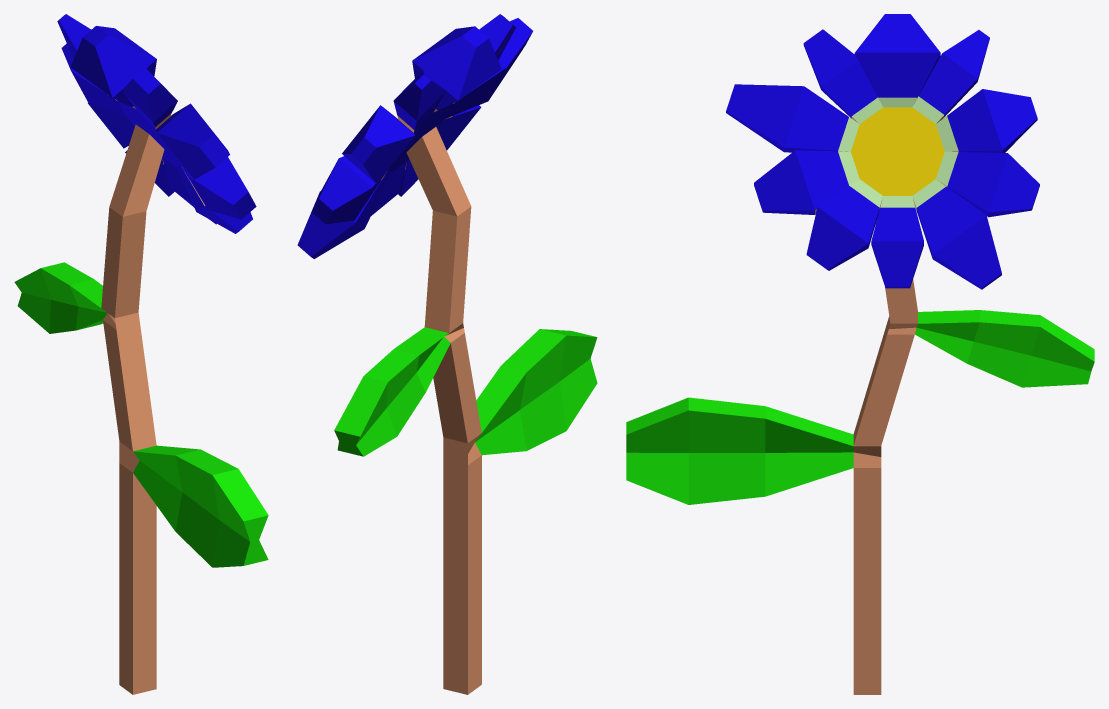
The model's file is flowers.fbx.
3 renders of one model, left to right at view 1: azimuth 30°, elevation 25°; view 2: azimuth 150°, elevation 25°; view 3: azimuth 270°, elevation 25°, orthographic. The views are drawn at different scales.
Parts seen in each view (by area): view 1: Cube; view 2: Cube; view 3: Cube.
Boxes of the visible parts, x1,y1,x2,y2 form: Cube: [14, 14, 268, 694]; Cube: [297, 14, 597, 694]; Cube: [626, 14, 1094, 694].
Bounding box in the file's own units: 116 × 534 × 341.
